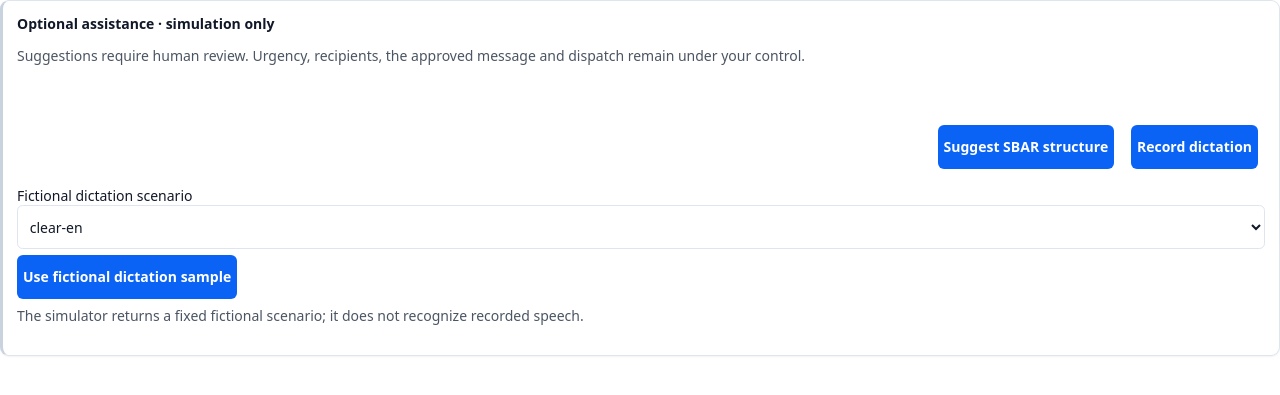
Scenario: unmount stops microphone tracks and never uploads unfinished recording
What coordinates should you click on to do the following:
click the button "Record dictation"
I would click on:
 (1194, 147)
Its box is [1131,125,1258,169].
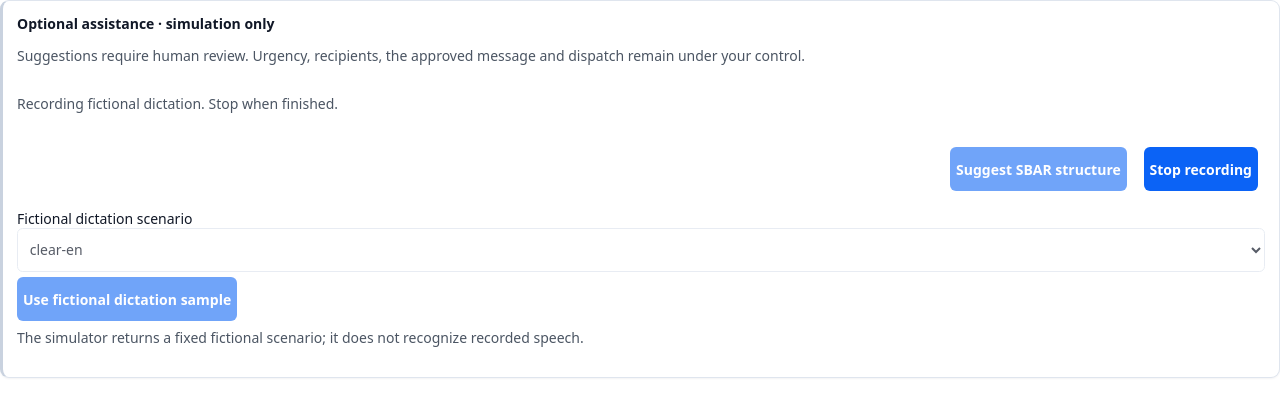
expect the button "Stop recording" is shown: met, box [1144,147,1258,191]
